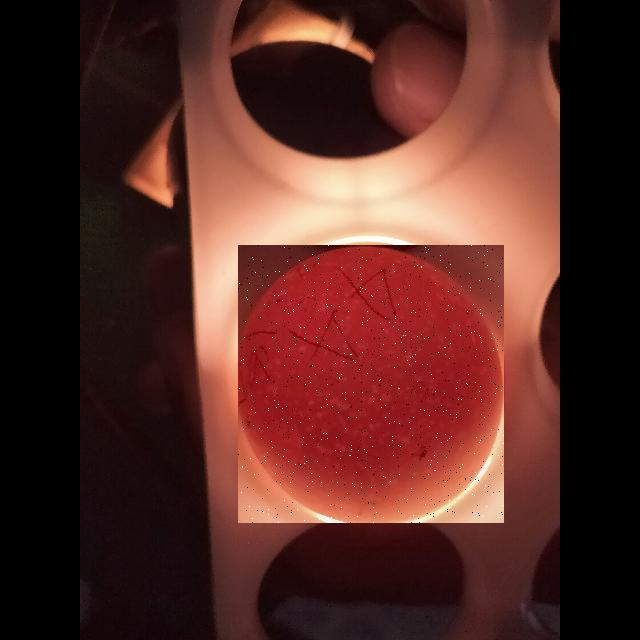Infertile: (238, 245, 504, 523)
